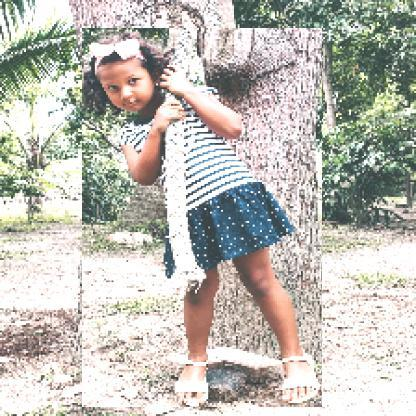child: (83, 29, 324, 409)
